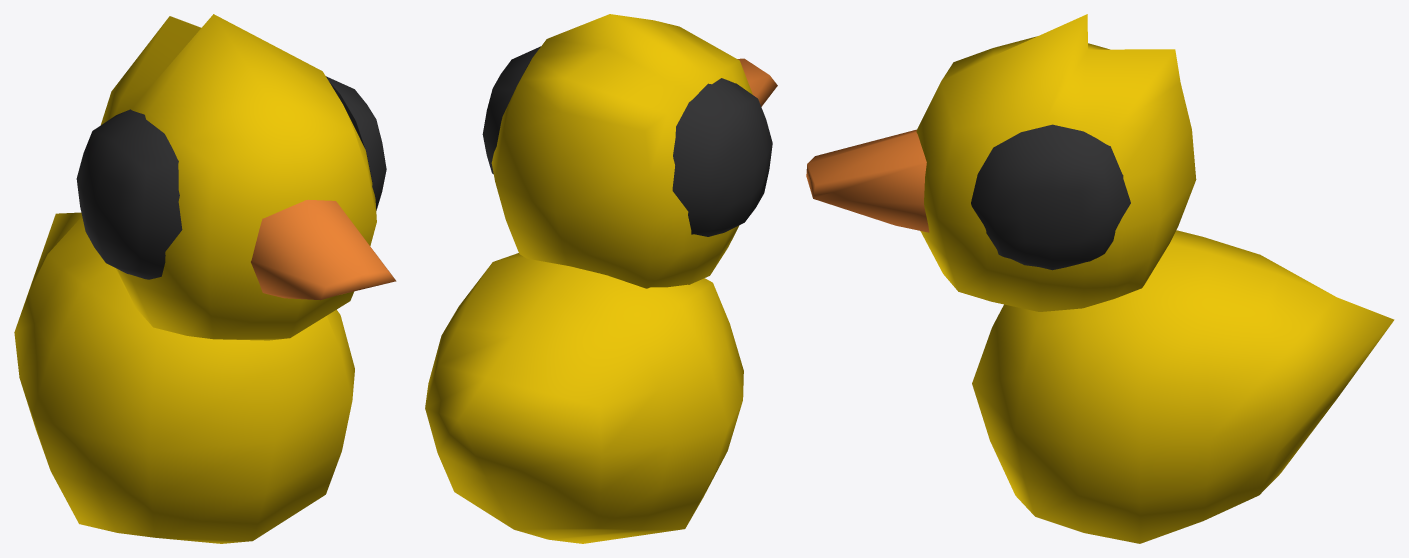
Rendered from props_duck.fbx.
3 views of the same model, side by side, from view 1: azimuth 30°, elevation 25°; view 2: azimuth 150°, elevation 25°; view 3: azimuth 270°, elevation 25° (orthographic). The views are drawn at different scales.
Parts seen in each view (by area): view 1: props_duck; view 2: props_duck; view 3: props_duck.
Boxes of the visible parts, x1,y1,x2,y2 form: props_duck: (14,14,396,543); props_duck: (425,14,777,543); props_duck: (806,14,1394,543).
Bounding box in the file's own units: 0.3316 × 0.581 × 0.5721.
